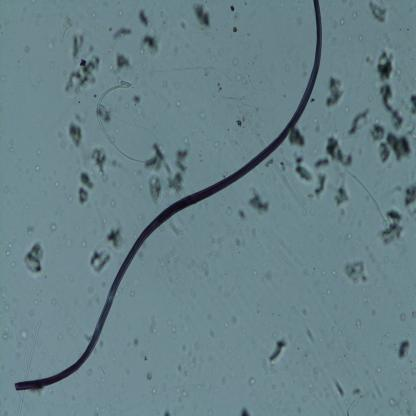Background material: (64, 32, 103, 95), (146, 142, 189, 193), (371, 122, 412, 166), (378, 84, 405, 132), (324, 134, 356, 170), (379, 204, 404, 246), (154, 244, 177, 285), (229, 91, 254, 128), (22, 239, 45, 277), (343, 255, 372, 285), (374, 46, 396, 84), (175, 340, 198, 376), (87, 246, 113, 277), (77, 168, 95, 208), (326, 74, 346, 110), (294, 150, 314, 184), (366, 1, 392, 27), (347, 106, 371, 134), (190, 3, 213, 32), (248, 188, 270, 216), (267, 336, 287, 365), (330, 370, 347, 402), (396, 334, 414, 363), (76, 0, 96, 26), (91, 148, 107, 180), (140, 30, 161, 53), (80, 282, 100, 306), (107, 226, 126, 251), (148, 173, 163, 204), (191, 256, 211, 279), (67, 119, 83, 147), (55, 15, 71, 42), (346, 391, 364, 415), (290, 127, 310, 148), (114, 52, 132, 74), (335, 182, 350, 207), (111, 26, 133, 41), (404, 180, 416, 207), (146, 310, 159, 334), (317, 170, 328, 198), (112, 0, 126, 20), (312, 156, 332, 170), (407, 90, 416, 121), (107, 97, 124, 112), (137, 7, 149, 28), (304, 324, 316, 345), (277, 155, 291, 172), (245, 222, 258, 240), (165, 316, 179, 332), (100, 102, 111, 121), (206, 108, 219, 124), (171, 219, 183, 236), (228, 2, 239, 20), (385, 390, 396, 408), (48, 297, 62, 311), (0, 290, 8, 314), (236, 404, 252, 416), (90, 397, 100, 416), (210, 236, 224, 249), (226, 358, 236, 376), (232, 236, 244, 251), (236, 207, 248, 222), (127, 336, 142, 348), (260, 269, 273, 282), (110, 158, 124, 170), (336, 206, 345, 224), (23, 225, 36, 237), (245, 376, 258, 388), (399, 311, 409, 326), (218, 373, 230, 385), (230, 308, 239, 324), (0, 324, 9, 340), (395, 65, 403, 83), (64, 192, 75, 205), (364, 53, 374, 67), (234, 72, 245, 84), (201, 65, 212, 76), (195, 110, 206, 121), (178, 386, 188, 398), (363, 293, 371, 308), (142, 368, 152, 380), (406, 401, 414, 416), (134, 102, 142, 116), (84, 330, 91, 346), (176, 19, 187, 29), (132, 212, 144, 221), (282, 59, 290, 72), (230, 58, 238, 71), (86, 364, 94, 377), (374, 364, 384, 374), (65, 237, 74, 248), (267, 157, 276, 168), (113, 123, 121, 135), (339, 326, 347, 338), (6, 244, 14, 256), (224, 206, 233, 216), (207, 329, 216, 339), (49, 223, 59, 232), (407, 365, 416, 375), (99, 338, 107, 349), (161, 408, 172, 416), (162, 76, 168, 90), (79, 239, 88, 248), (127, 288, 136, 297), (220, 341, 228, 351), (324, 286, 332, 296), (352, 10, 362, 18), (250, 266, 258, 276), (354, 318, 361, 329), (409, 307, 416, 318), (357, 32, 364, 43), (260, 38, 265, 53), (8, 143, 16, 152), (294, 406, 302, 415), (301, 268, 309, 277), (338, 16, 346, 25), (134, 94, 141, 104), (107, 199, 117, 206), (34, 163, 40, 174), (213, 140, 221, 148), (32, 298, 40, 306), (302, 309, 310, 317), (230, 25, 239, 32), (50, 61, 56, 71), (150, 386, 156, 396), (53, 179, 60, 187), (383, 332, 391, 339), (29, 309, 36, 317), (141, 354, 148, 362), (46, 42, 51, 52), (279, 92, 287, 98), (10, 261, 16, 269), (306, 192, 314, 198), (175, 100, 182, 106), (346, 234, 352, 240), (232, 248, 236, 257), (138, 184, 144, 189), (333, 269, 336, 276), (373, 312, 378, 316)
Glass filter fibre: (95, 77, 158, 166), (15, 319, 42, 416), (346, 171, 388, 230), (48, 94, 79, 142)
Microfibre: (13, 0, 324, 393)
